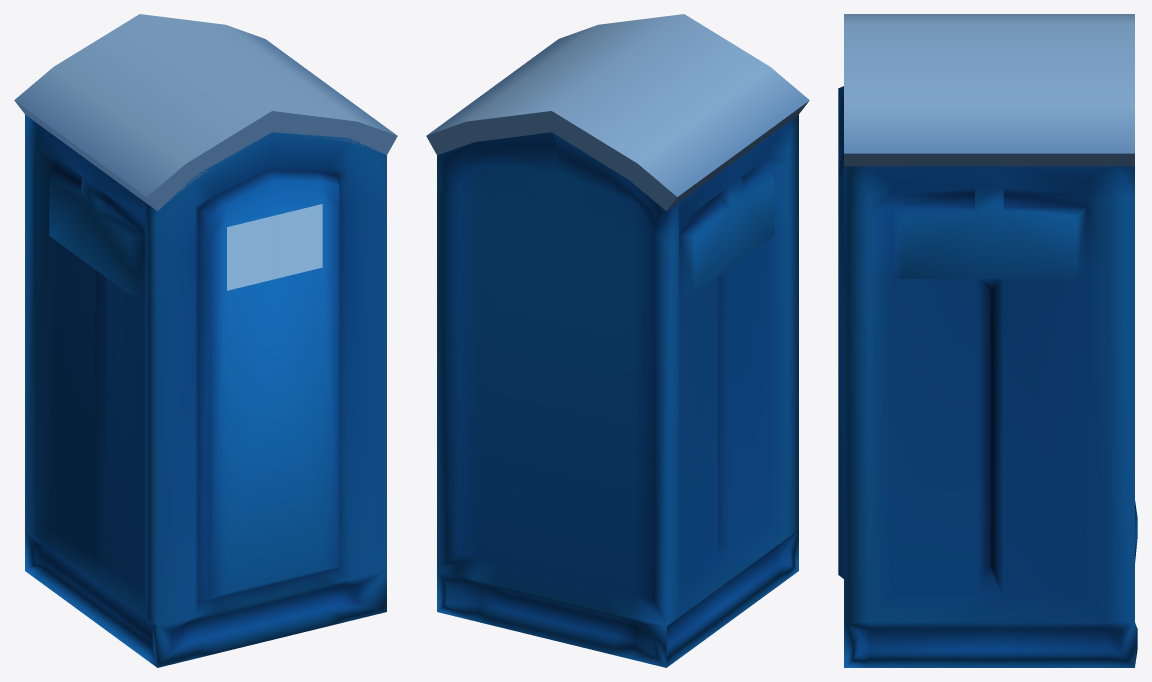
Rendered from PortaPotty_Closed.fbx.
3 views of the same model, side by side, from view 1: azimuth 30°, elevation 25°; view 2: azimuth 150°, elevation 25°; view 3: azimuth 270°, elevation 25° (orthographic). The views are drawn at different scales.
Visible parts, largest first — view 1: PortaPotty_Closed; view 2: PortaPotty_Closed; view 3: PortaPotty_Closed.
Boxes of the visible parts, left/top/right/bottom form: PortaPotty_Closed: left=14, top=14, right=397, bottom=667; PortaPotty_Closed: left=426, top=14, right=809, bottom=667; PortaPotty_Closed: left=838, top=14, right=1137, bottom=667.
Bounding box in the file's own units: 132 × 265 × 124.
